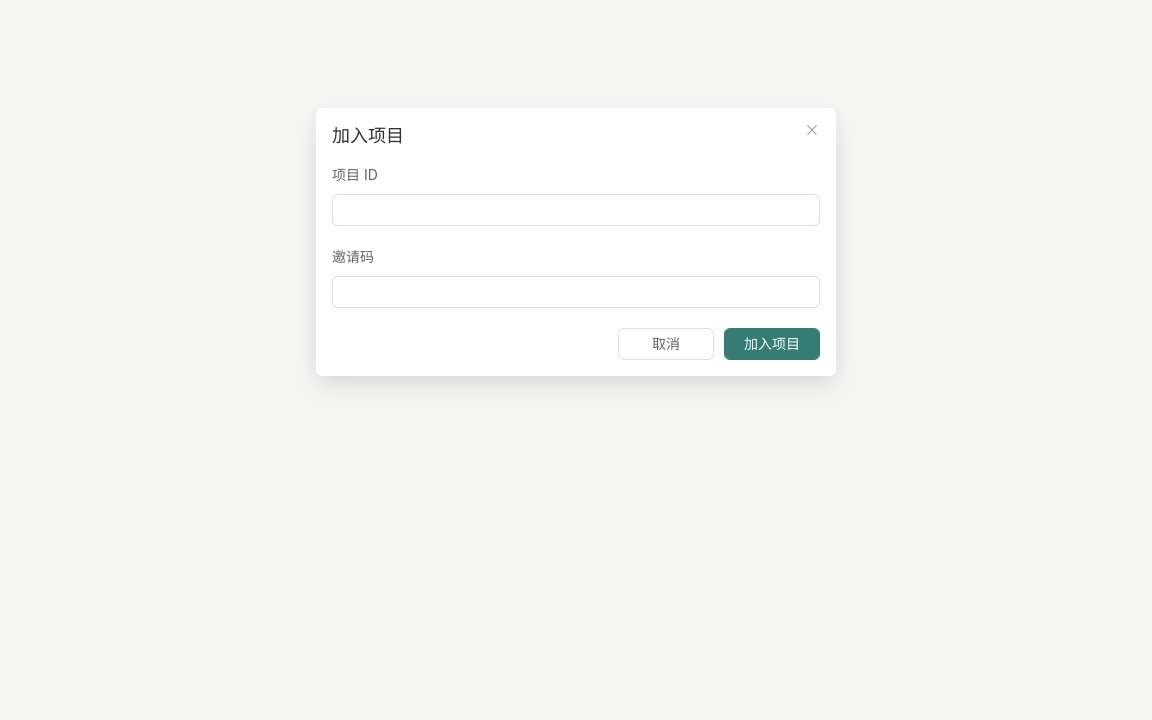
Test: ProjectDialog › shows the dedicated safe join message for HTTP 403 and keeps input
In the number field named "projectId": (576, 210) [347, 195, 805, 225], type "73"
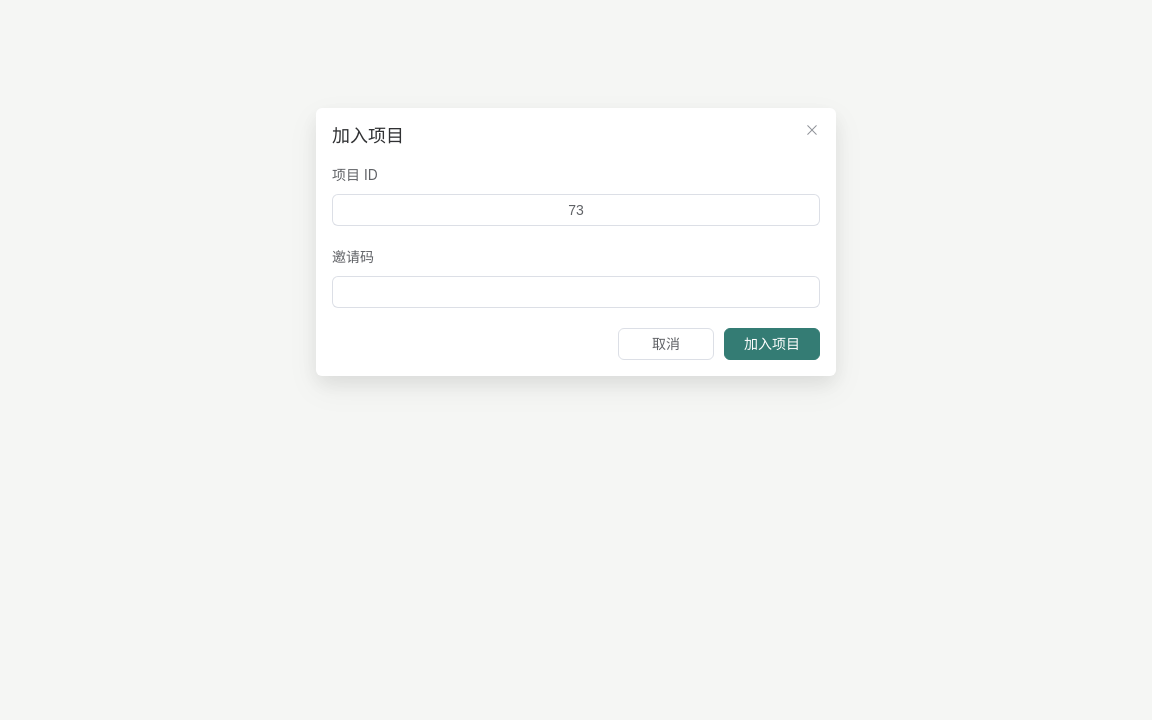
In the field named "invite_code": (576, 292) [343, 277, 809, 307], type " JOIN73 "
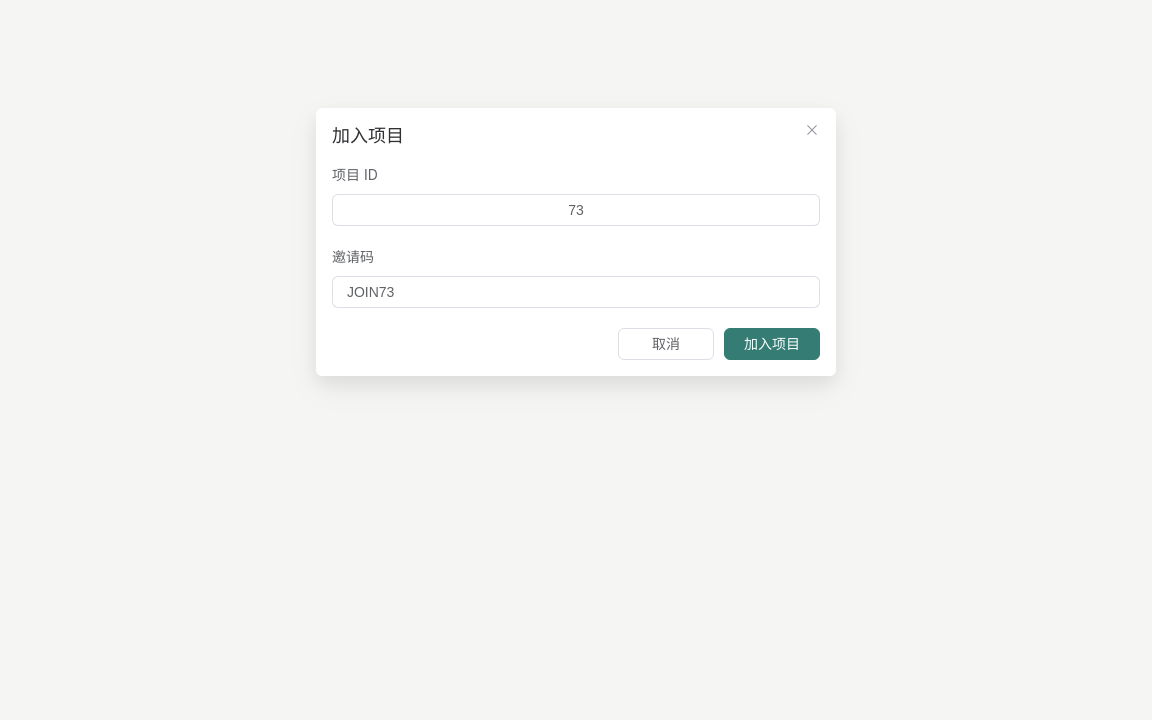
Submit the form, box [332, 164, 820, 360]
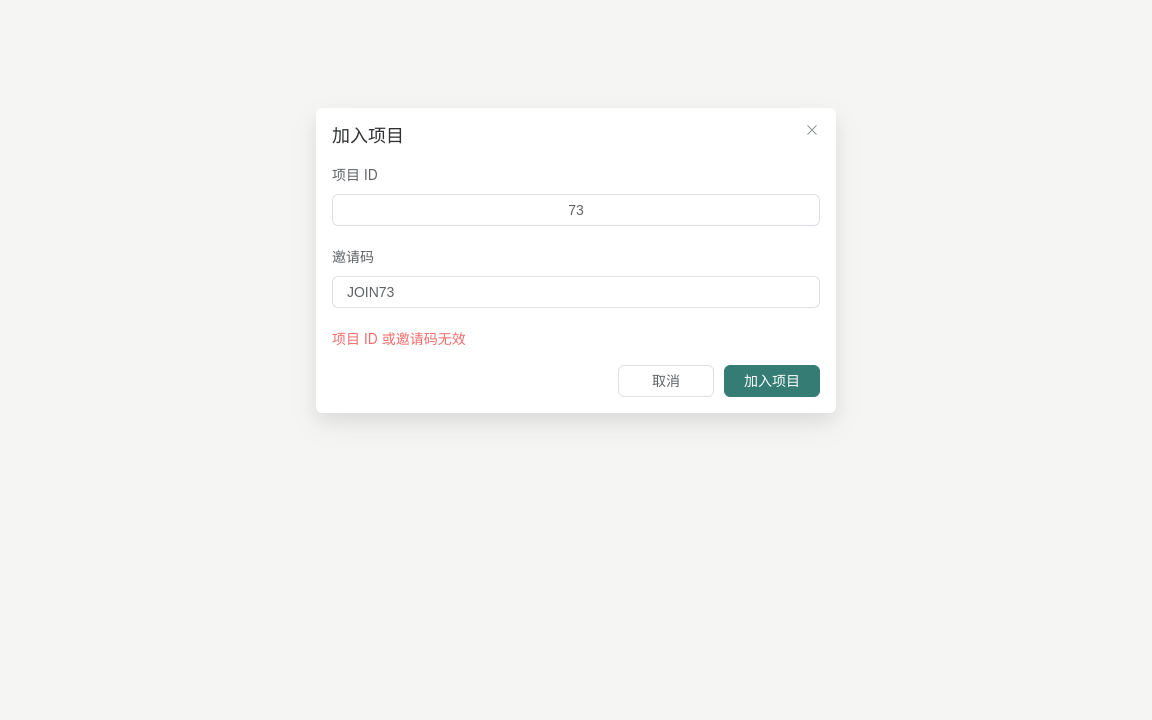
Check: the message with test id "form-error" reads "项目 ID 或邀请码无效", box [332, 330, 466, 347]
